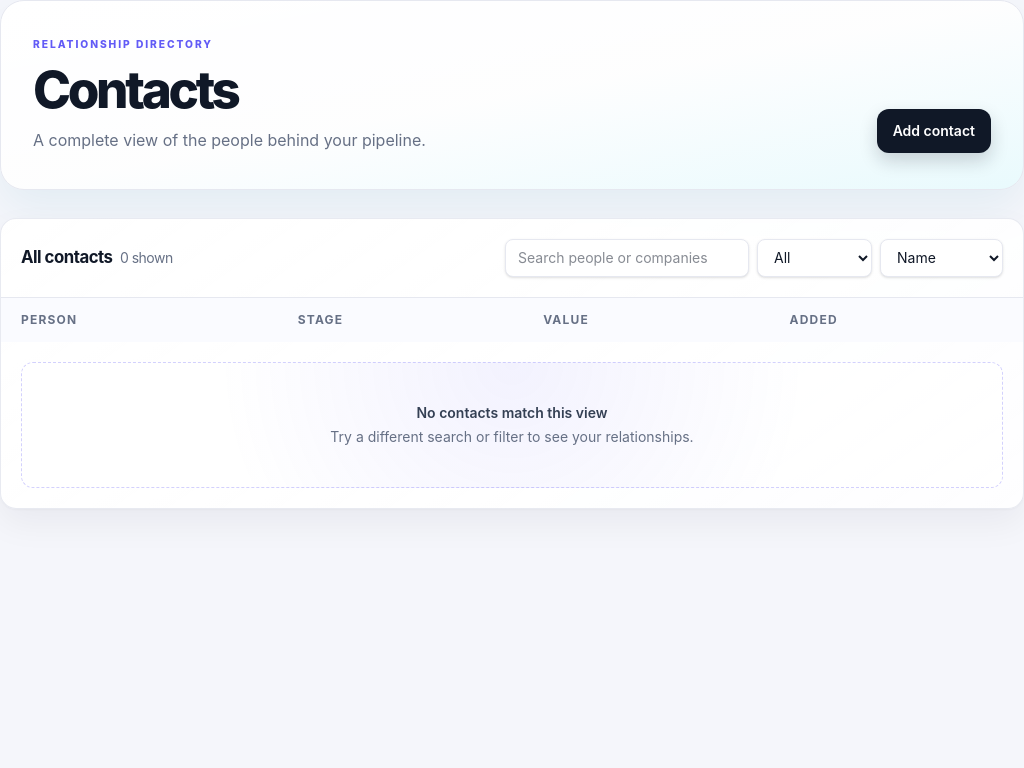
Add contact form › adds a new contact and shows a success message on valid submit
Click the button "Add contact": {"x": 934, "y": 131} [877,109,991,153]
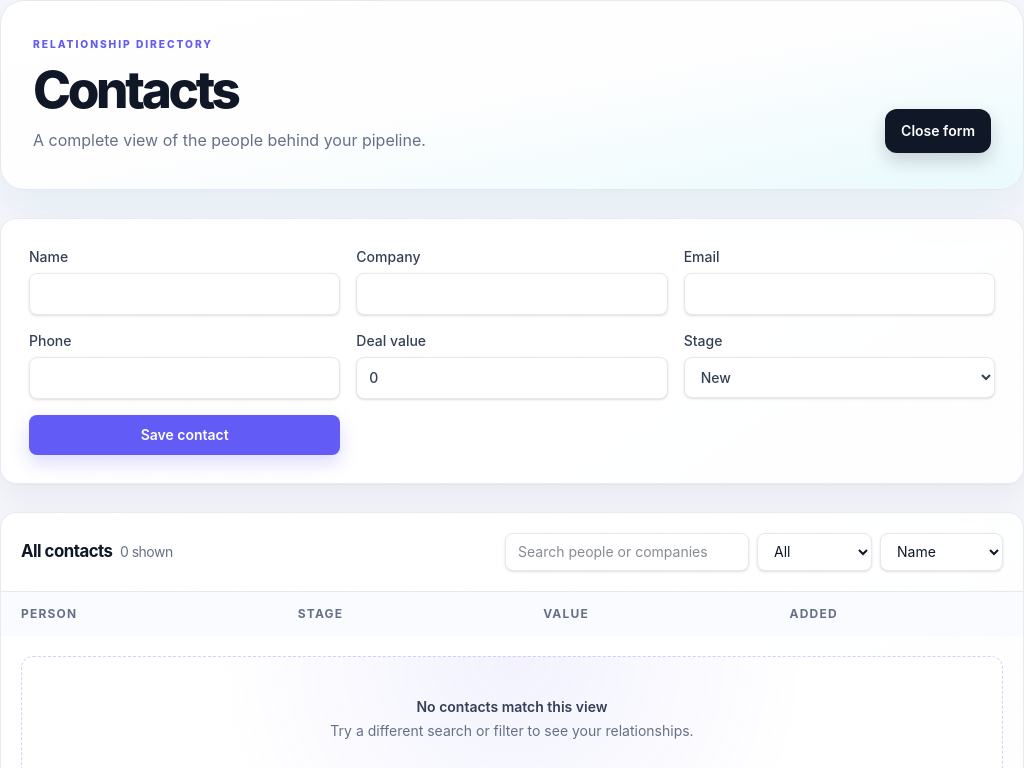
In the field with test id "input-name": {"x": 185, "y": 294} [29,273,340,315], type "Test User"
In the field with test id "input-company": {"x": 512, "y": 294} [356,273,668,315], type "Test Co"
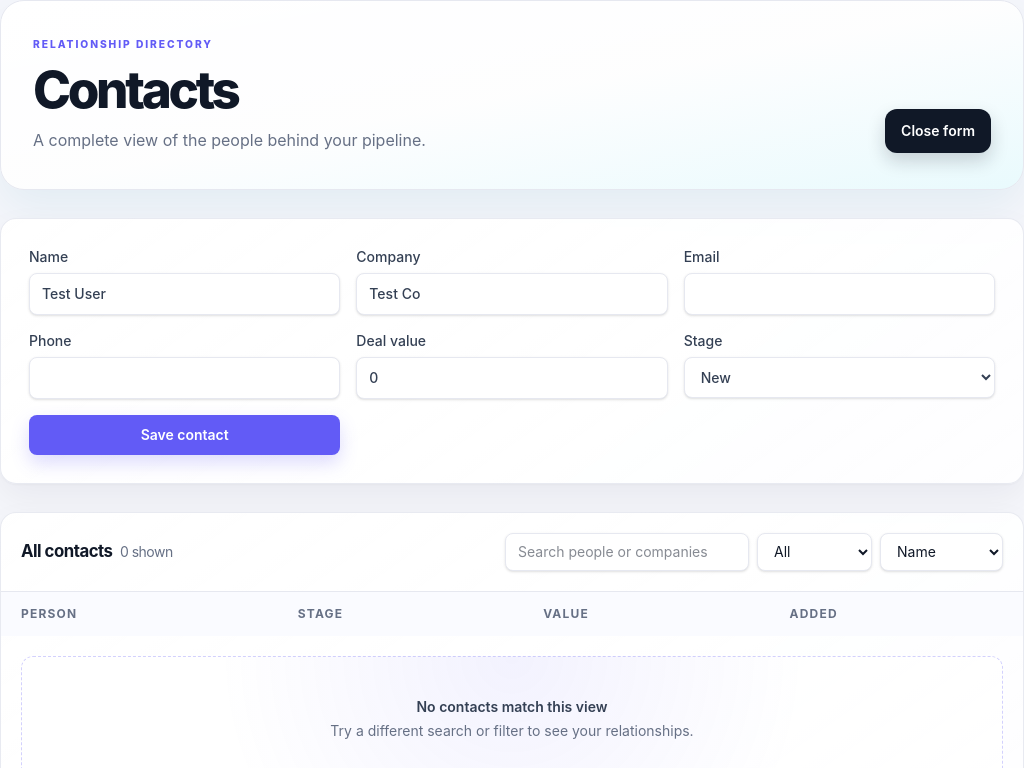
In the field with test id "input-email": {"x": 839, "y": 294} [684,273,995,315], type "test@company.com"
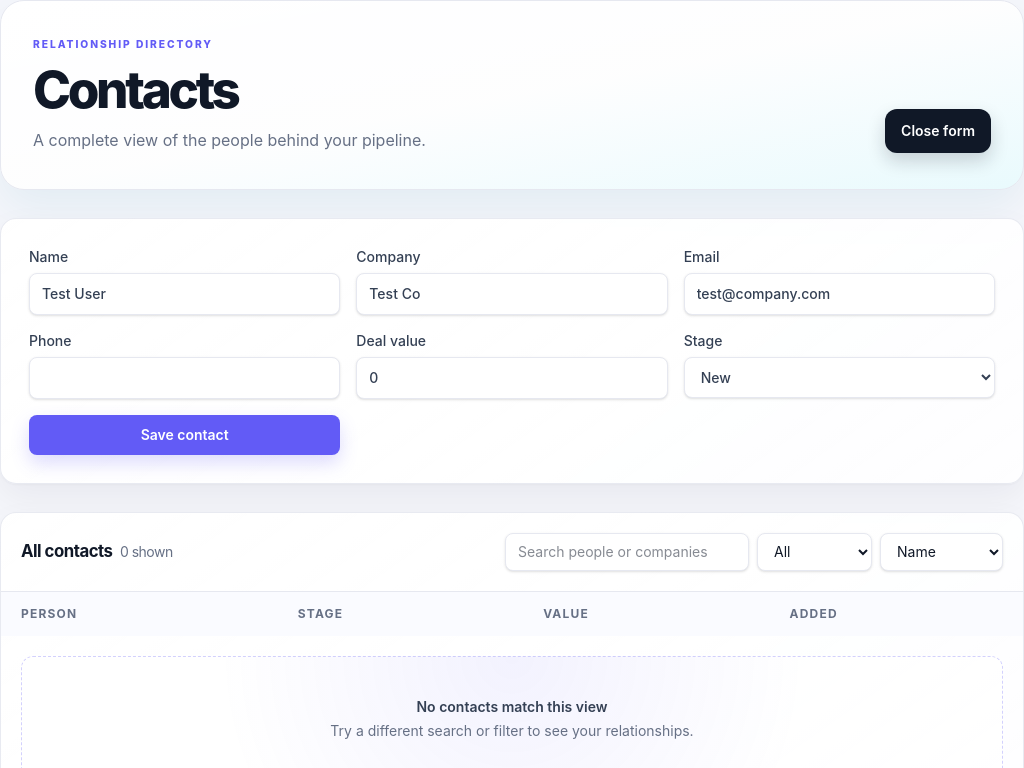
In the field with test id "input-phone": {"x": 185, "y": 378} [29,357,340,399], type "555-9999"
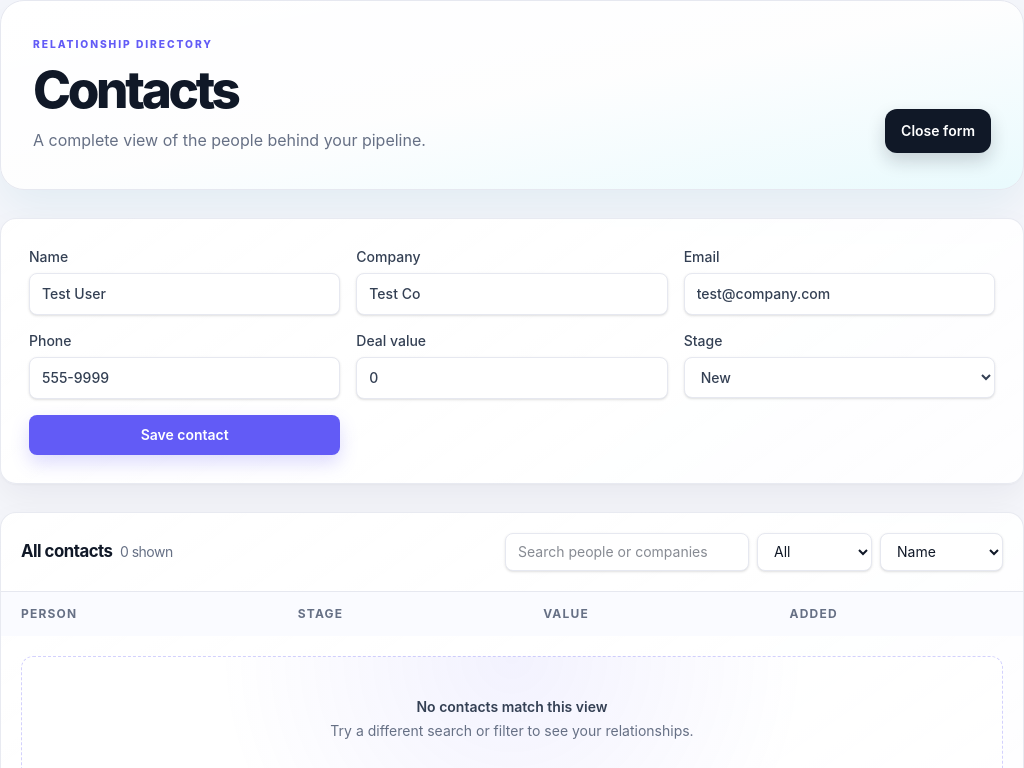
Replace the text in the number field with test id "input-dealValue" with "4200": {"x": 512, "y": 378} [356,357,668,399]
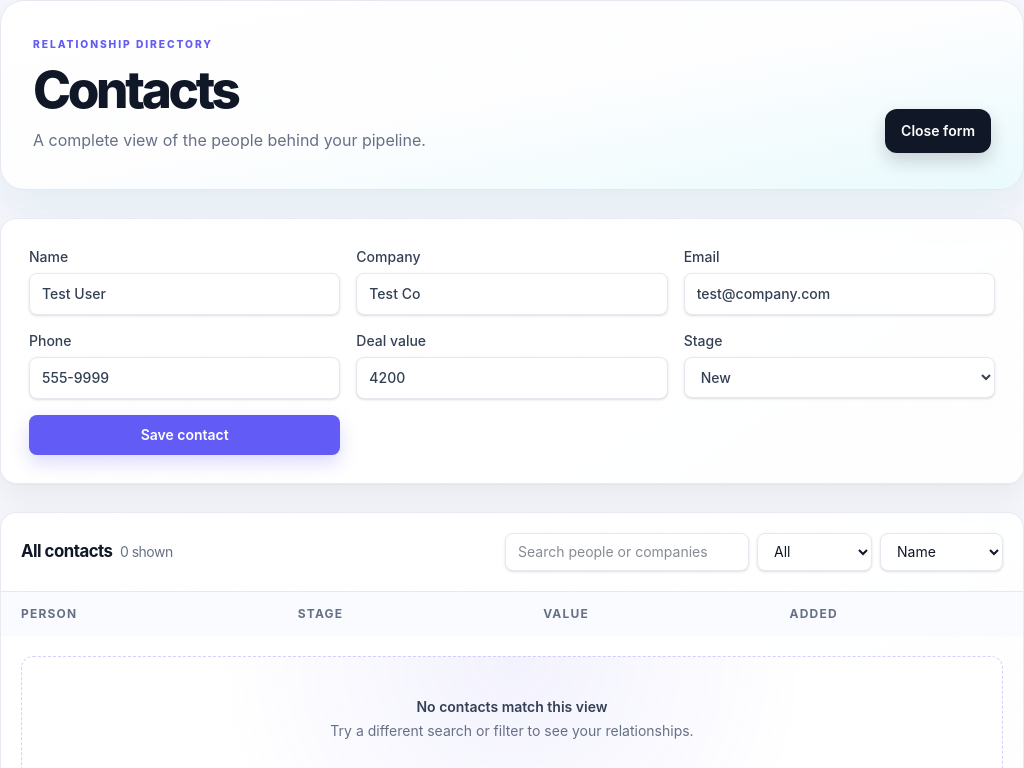
Click the button "Save contact": {"x": 185, "y": 435} [29,415,340,455]
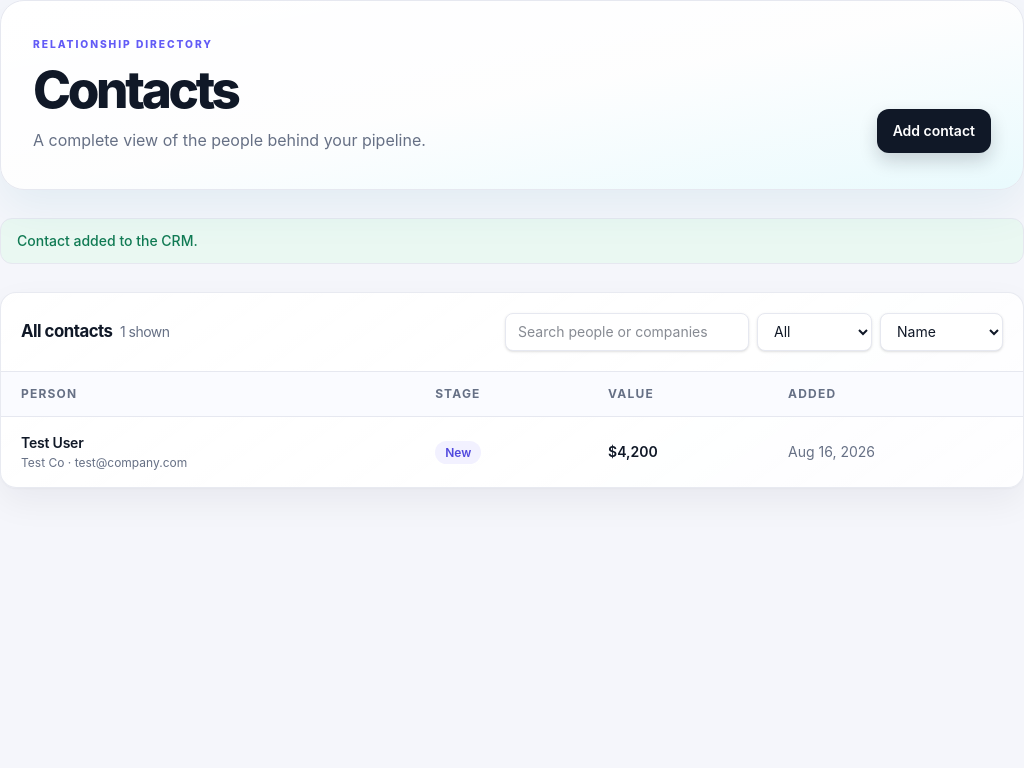
Expected: the message reads "Contact added to the CRM.", [17,232,198,249]
Expected: the text "Test User" is shown, [21,434,84,451]
